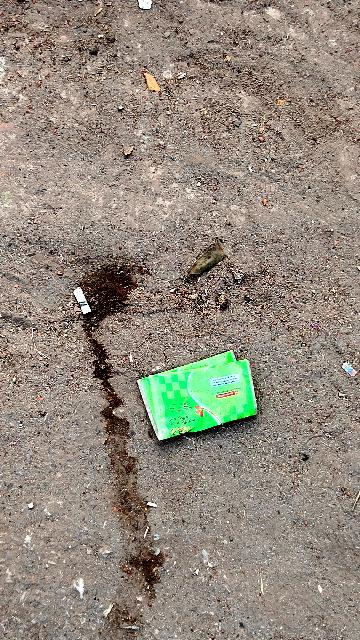packet: (145, 348, 262, 445)
